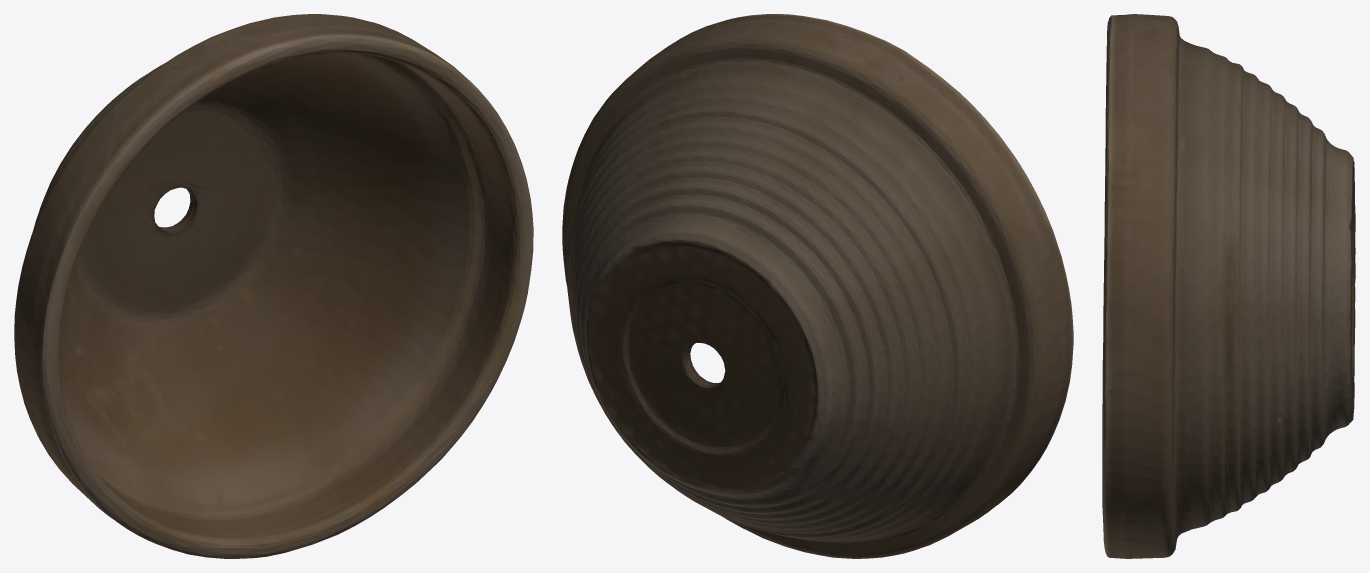
The model's file is Cole_Hardware_Deep_Bowl_Good_Earth_1075.glb.
The picture shows the model from 3 angles, left to right: view 1: azimuth 30°, elevation 25°; view 2: azimuth 150°, elevation 25°; view 3: azimuth 270°, elevation 25°; orthographic projection. The views are drawn at different scales.
Visible parts, largest first — view 1: v0; view 2: v0; view 3: v0.
Boxes of the visible parts, box(x1,y1,x2,y2) form: v0: box(14, 14, 533, 558); v0: box(562, 14, 1073, 558); v0: box(1102, 14, 1355, 558).
Bounding box in the file's own units: 0.2837 × 0.2843 × 0.1318.
1 material, 1 textured.
